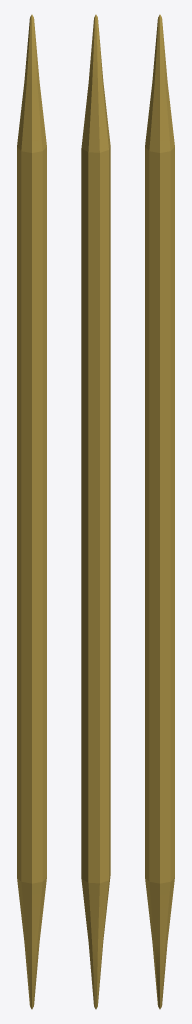
Rendered from Toothpick Single.fbx.
The picture shows the model from 3 angles, left to right: view 1: azimuth 90°, elevation 25°; view 2: azimuth 150°, elevation 25°; view 3: azimuth 270°, elevation 25°; orthographic projection.
Visible parts, largest first — view 1: Toothpick_Single; view 2: Toothpick_Single; view 3: Toothpick_Single.
Part boxes in pixels (box(x1,y1,x2,y2)): Toothpick_Single: box(17, 14, 46, 1009); Toothpick_Single: box(81, 14, 110, 1009); Toothpick_Single: box(145, 14, 174, 1009).
Size of the model in its own units: 2.84 by 104 by 2.84.
